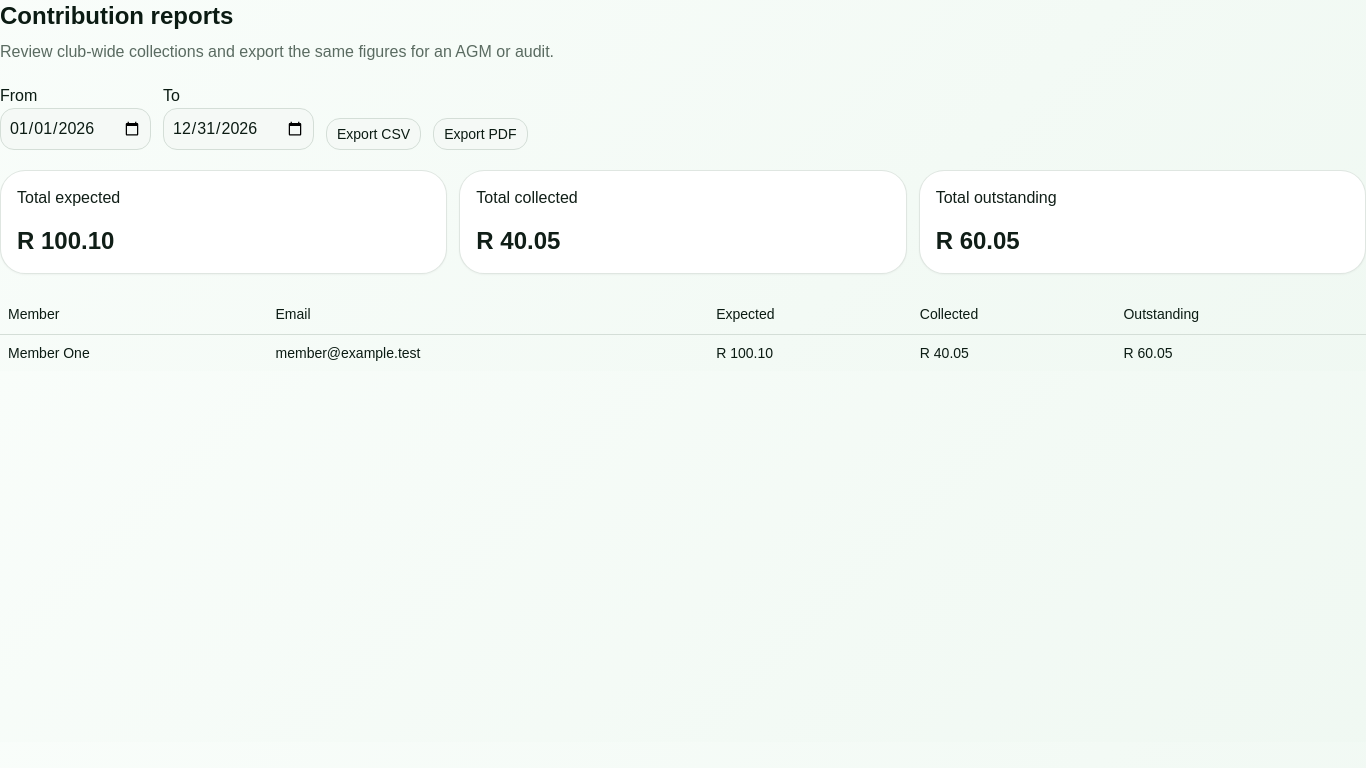
Test: explains an incomplete contribution date range and blocks its export
Expected: the text "Member One" is shown, left=0, top=334, right=268, bottom=370
Clear the date field named "Report from" at point(76, 129), box left=0, top=108, right=151, bottom=150
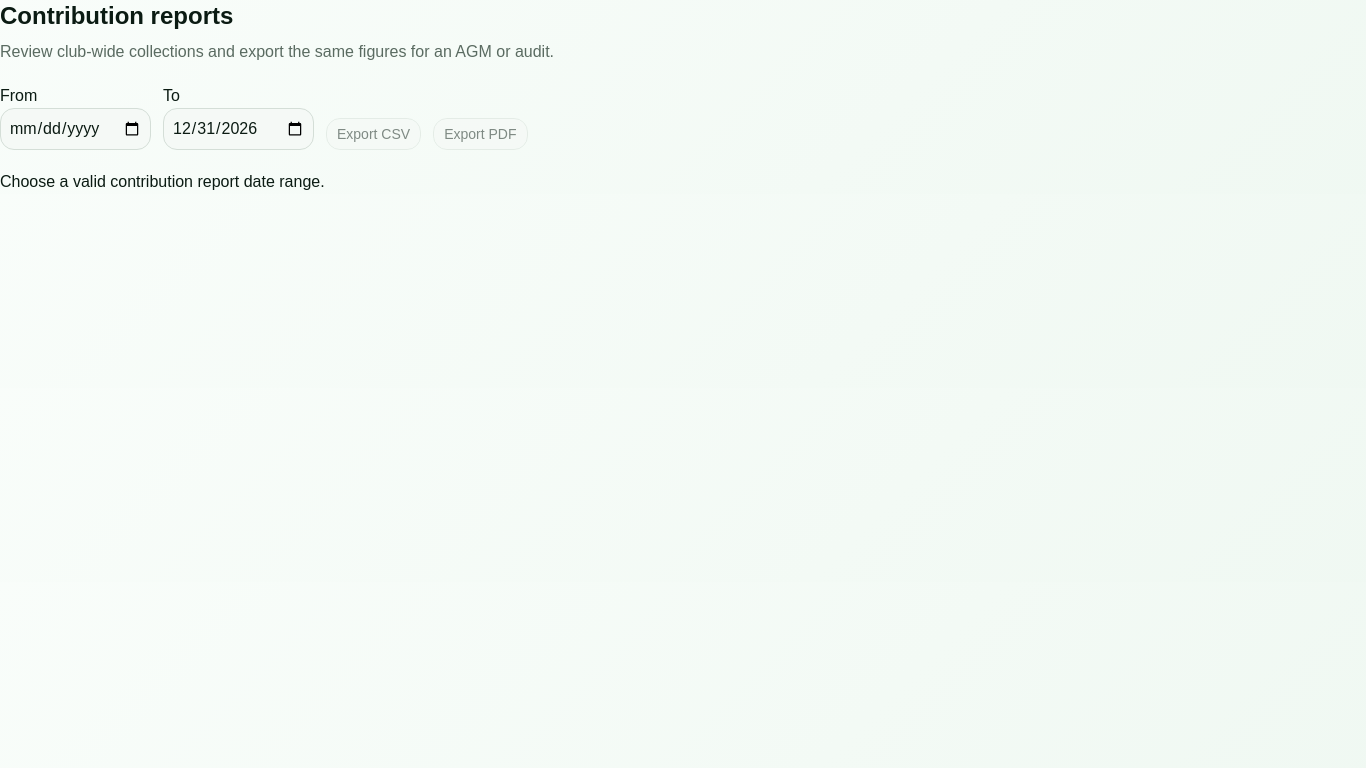
Result: the message shows "valid contribution report date range" at left=0, top=173, right=325, bottom=190
Result: the button "Export CSV" is disabled at left=326, top=118, right=421, bottom=150
